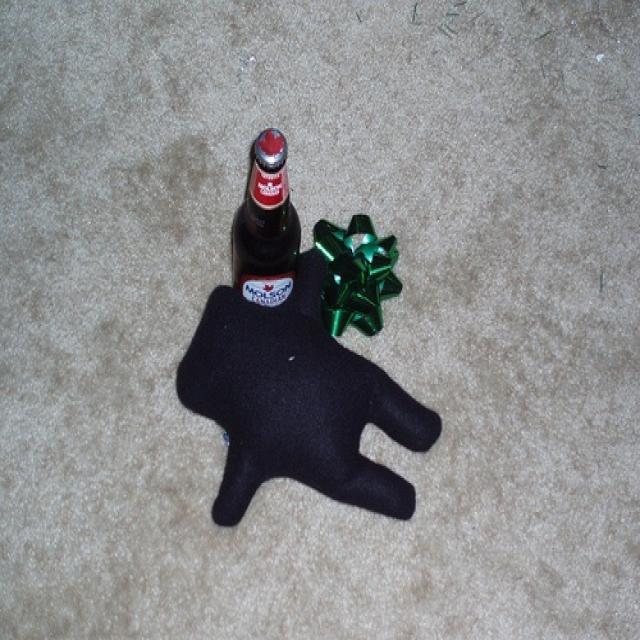bottle: (230, 128, 304, 311)
